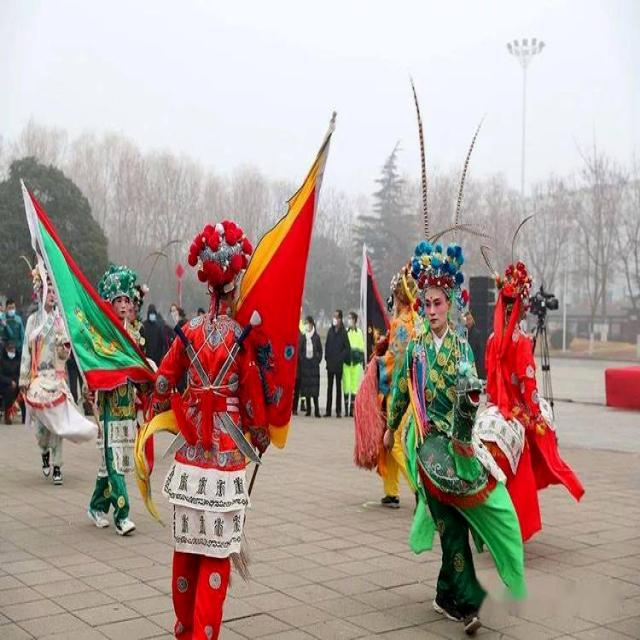Reeves-s Pheasant: (452, 100, 493, 239), (404, 60, 432, 239)
